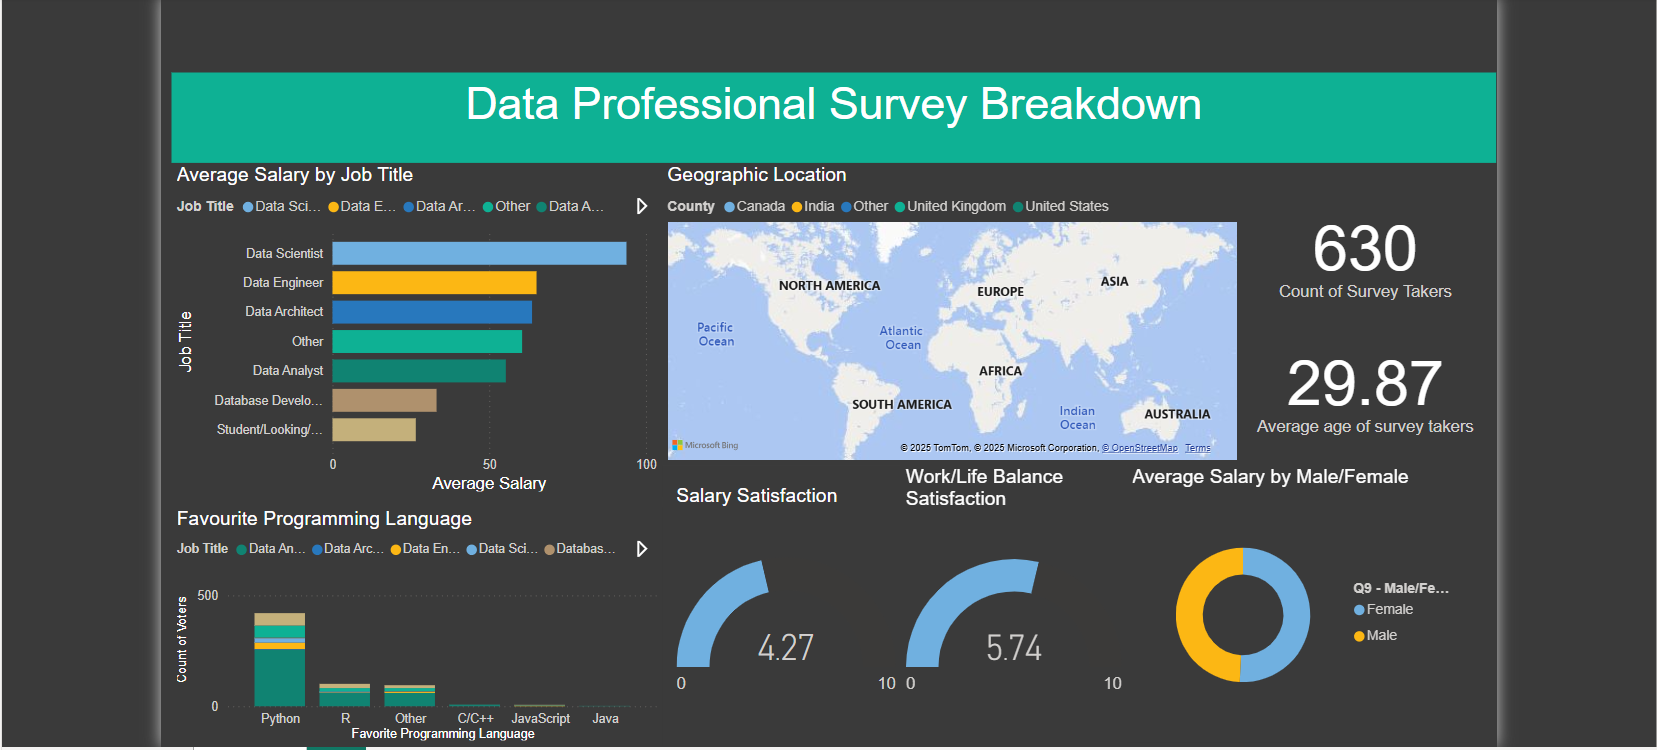

The dashboard page shown, as its layout file describes it:
{"tool":"powerbi","page":{"name":"Page 1","canvas":[1280,720],"ordinal":0},"visuals":[{"type":"textbox","box":[9.4,73.7,1269.9,86.9],"z":0},{"type":"card","fields":{"Values":["CountNonNull(Data Professional Survey.Unique ID)"]},"box":[1028.5,169.7,252.1,151.2],"z":1000},{"type":"card","fields":{"Values":["Avg(Data Professional Survey.Q10 - Current Age)"]},"box":[1028.5,299.1,252.1,151.2],"z":2000},{"type":"barChart","title":"Average Salary by Job Title","fields":{"Y":["Avg(Data Professional Survey.Average Salary)"],"Series":["Data Professional Survey.Q1 - Which Title Best Fits your Current Role?.1"],"Category":["Data Professional Survey.Q1 - Which Title Best Fits your Current Role?.1"]},"box":[10.1,161.3,470.6,319.3],"z":3000},{"type":"columnChart","title":"Favourite Programming Language","fields":{"Category":["Data Professional Survey.Q5 - Favorite Programming Language.1"],"Y":["CountNonNull(Data Professional Survey.Unique ID)"],"Series":["Data Professional Survey.Q1 - Which Title Best Fits your Current Role?.1"]},"box":[10.1,490.7,470.6,228.6],"z":4000},{"type":"filledMap","title":"Geographic Location","fields":{"Category":["Data Professional Survey.Q11 - Which Country do you live in?.1"],"Series":["Data Professional Survey.Q11 - Which Country do you live in?.1"]},"box":[480.6,161.3,556.3,289.1],"z":5000},{"type":"gauge","title":"Salary Satisfaction","fields":{"Y":["Avg(Data Professional Survey.Q6 - How Happy are you in your Current Position with the following? (Salary))"],"MinValue":["Min(Data Professional Survey.Q6 - How Happy are you in your Current Position with the following? (Salary))"],"MaxValue":["Max(Data Professional Survey.Q6 - How Happy are you in your Current Position with the following? (Salary))"]},"box":[489,468.9,220.2,250.4],"z":6000},{"type":"gauge","title":"Work/Life Balance Satisfaction","fields":{"Y":["Avg(Data Professional Survey.Q6 - How Happy are you in your Current Position with the following? (Work/Life Balance))"],"MinValue":["Min(Data Professional Survey.Q6 - How Happy are you in your Current Position with the following? (Work/Life Balance))"],"MaxValue":["Max(Data Professional Survey.Q6 - How Happy are you in your Current Position with the following? (Work/Life Balance))"]},"box":[709.2,450.4,216.8,268.9],"z":7000},{"type":"donutChart","title":"Average Salary by Sex","fields":{"Category":["Data Professional Survey.Q9 - Male/Female?"],"Y":["Avg(Data Professional Survey.Average Salary)"]},"box":[925.8,450.1,327.9,265.2],"z":8000}]}

Visuals, with their boxes on the page's 1280x720 design canvas (x1, y1, x2, y2). These are canvas units, not pixel positions in the 1657x750 screenshot, which may show the page scaled, cropped or inside an application window:
textbox: l=9, t=74, r=1279, b=161
card - CountNonNull(Data Professional Survey.Unique ID): l=1028, t=170, r=1281, b=321
card - Avg(Data Professional Survey.Q10 - Current Age): l=1028, t=299, r=1281, b=450
"Average Salary by Job Title" barChart: l=10, t=161, r=481, b=481
"Favourite Programming Language" columnChart: l=10, t=491, r=481, b=719
"Geographic Location" filledMap: l=481, t=161, r=1037, b=450
"Salary Satisfaction" gauge: l=489, t=469, r=709, b=719
"Work/Life Balance Satisfaction" gauge: l=709, t=450, r=926, b=719
"Average Salary by Sex" donutChart: l=926, t=450, r=1254, b=715
